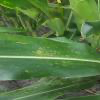Corn rust leaf: (0, 33, 99, 81)
